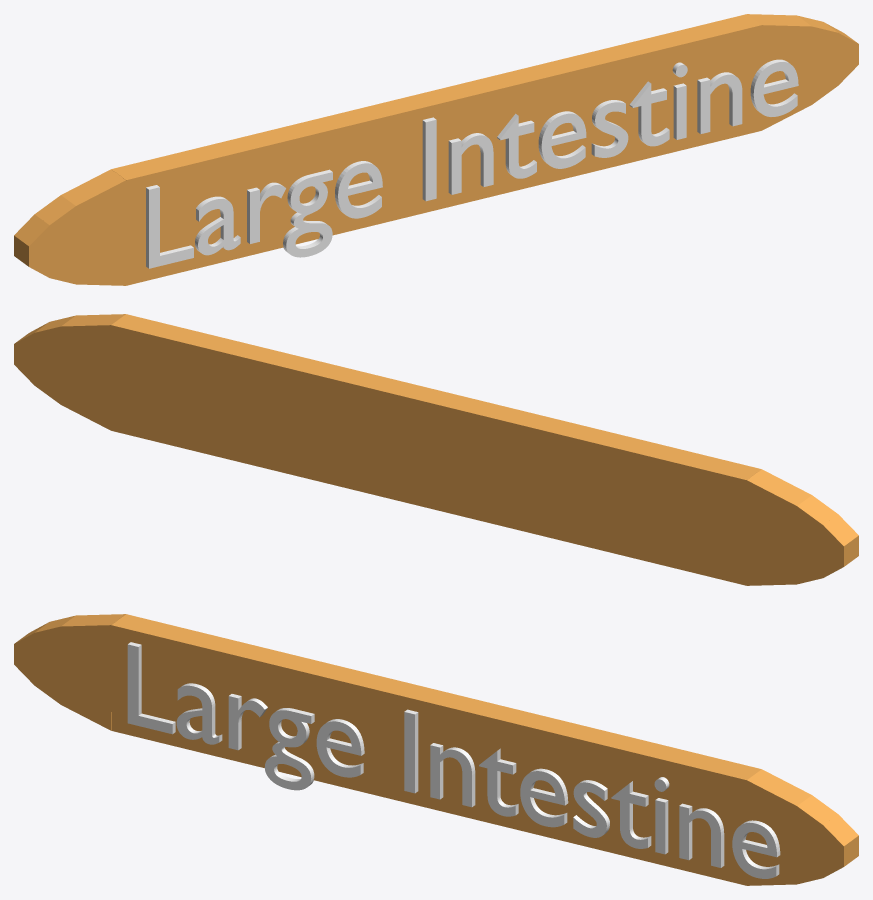
The model's file is TxtLargeIntestine.fbx.
3 views of the same model, one above another, from view 1: azimuth 30°, elevation 25°; view 2: azimuth 150°, elevation 25°; view 3: azimuth 330°, elevation 25° (orthographic).
Visible parts, largest first — view 1: TagContainer.034, Text.033; view 2: TagContainer.034; view 3: TagContainer.034, Text.033.
Part boxes in pixels (box(x1,y1,x2,y2)): TagContainer.034: box(14, 14, 858, 285); Text.033: box(146, 59, 798, 268); TagContainer.034: box(14, 314, 858, 585); TagContainer.034: box(14, 614, 858, 885); Text.033: box(127, 642, 780, 878).
Size of the model in its own units: 339 by 46.02 by 12.94.
